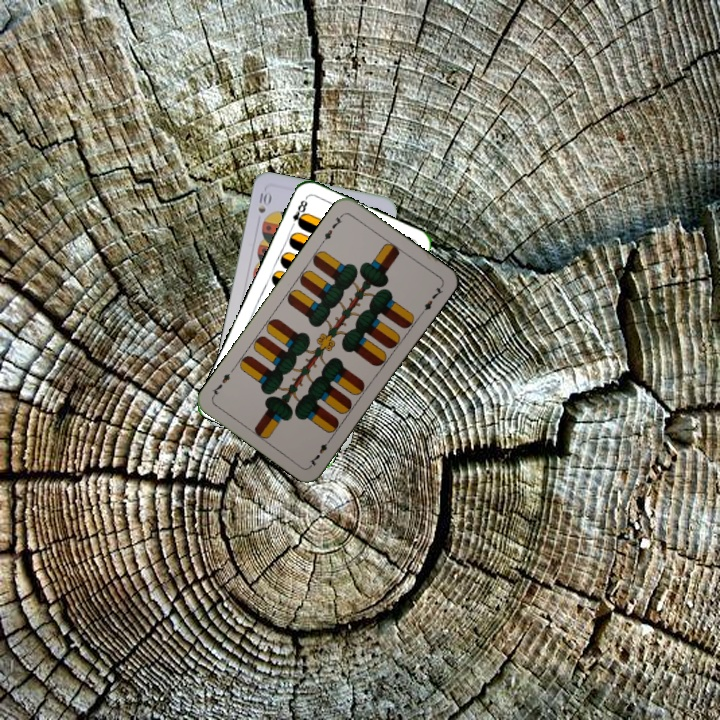E7: (305, 433, 335, 469), (318, 210, 346, 246)
E8: (287, 193, 310, 232)
S10: (254, 188, 273, 216)
